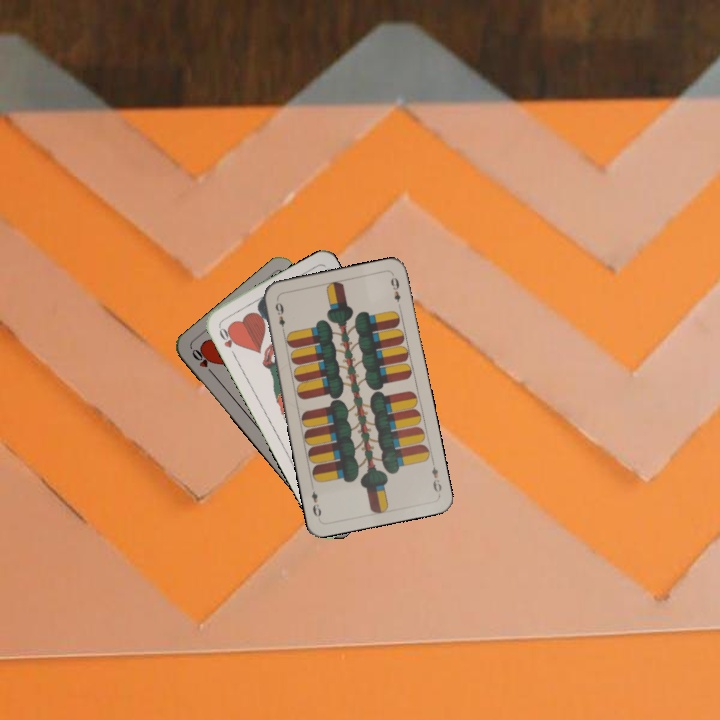E9: (271, 295, 288, 336), (428, 457, 444, 495)
HO: (188, 345, 218, 379), (214, 321, 240, 359)
